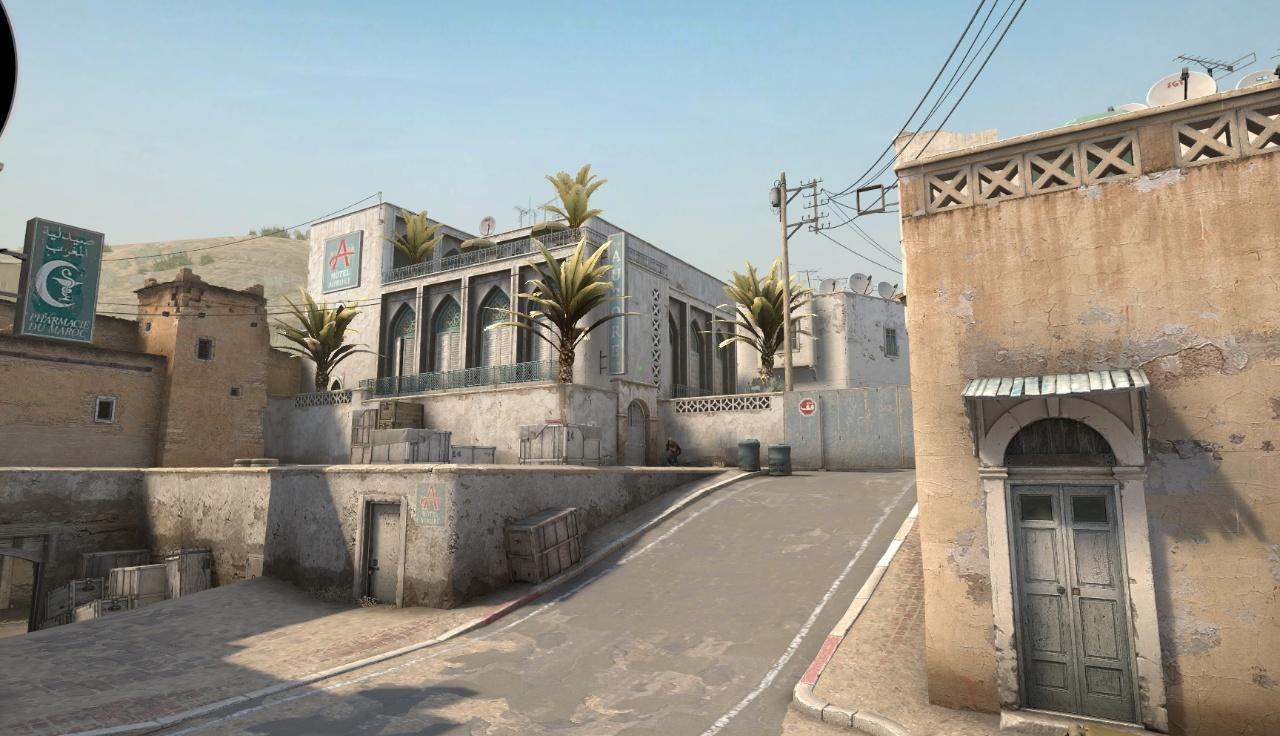tt: (666, 438, 681, 466)
tthead: (668, 438, 674, 446)
